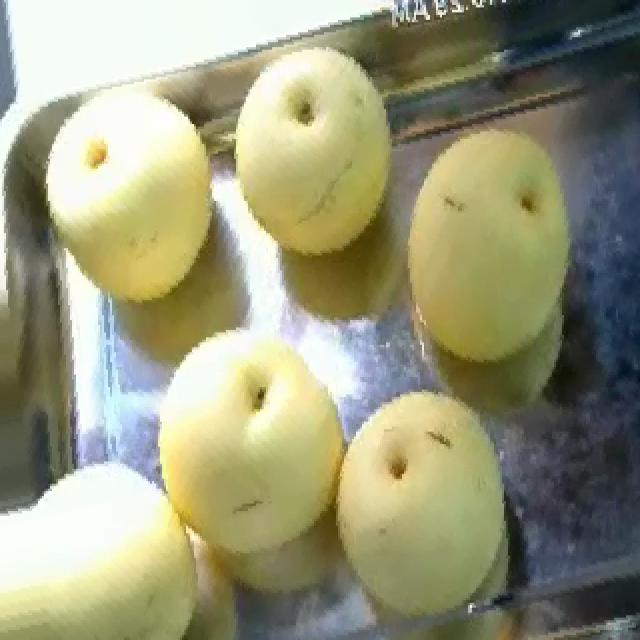Fruit: (128, 303, 384, 578), (366, 104, 610, 390), (300, 362, 540, 640), (204, 25, 424, 283), (20, 79, 246, 330), (0, 451, 220, 640)
